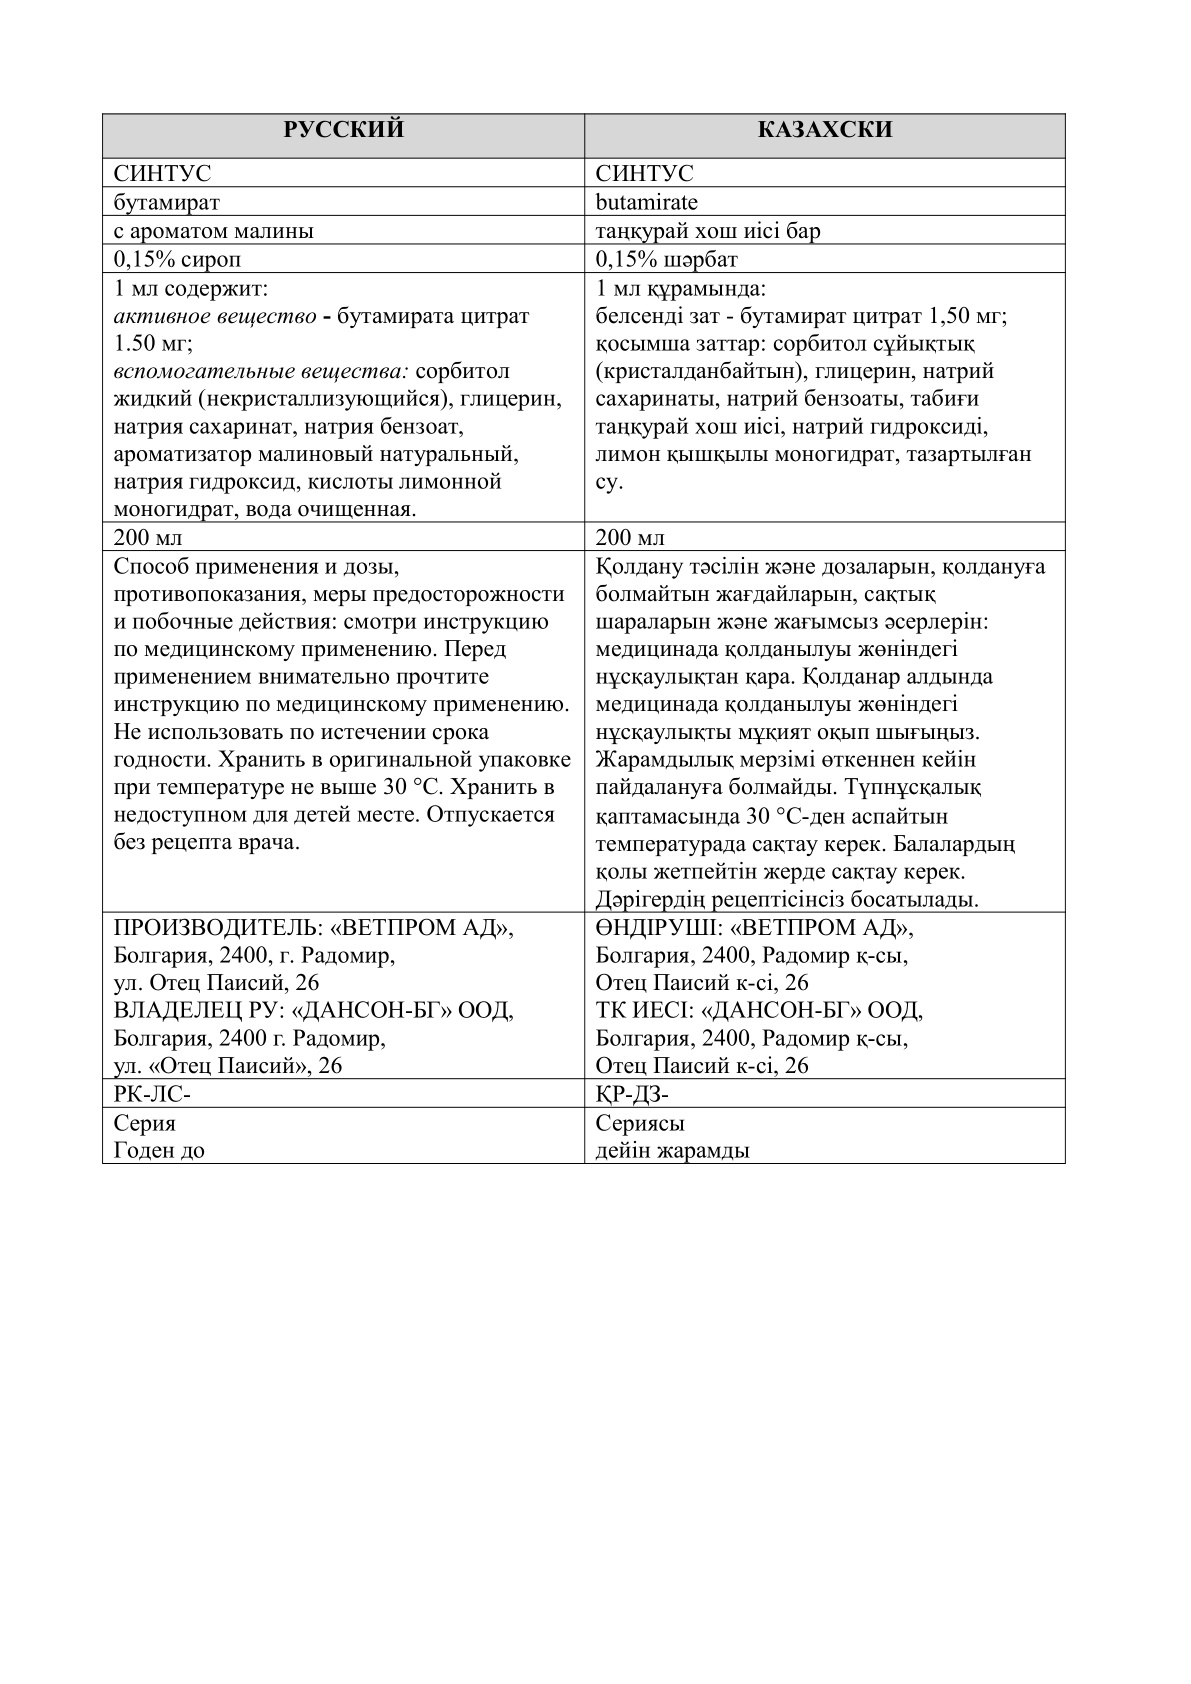full_lined: (101, 112, 1067, 1165)
